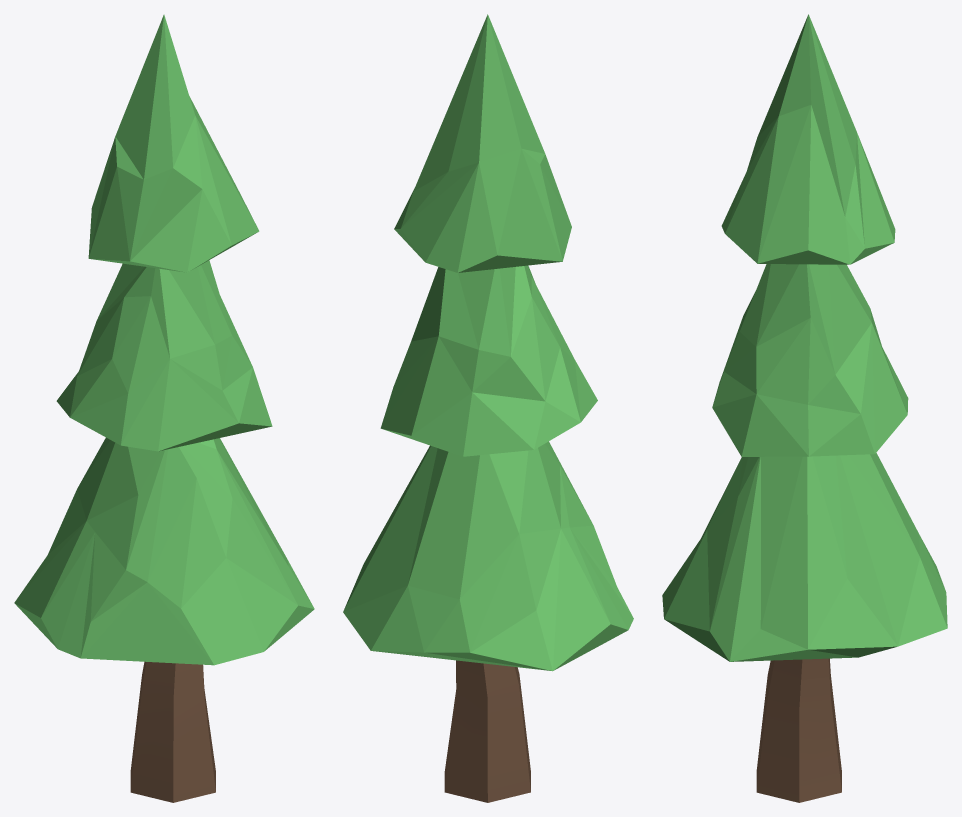
File: Arbre_Grand_2.fbx
The picture shows the model from 3 angles, left to right: view 1: azimuth 30°, elevation 25°; view 2: azimuth 150°, elevation 25°; view 3: azimuth 270°, elevation 25°; orthographic projection.
Parts seen in each view (by area): view 1: pCylinder4, pCylinder3; view 2: pCylinder4, pCylinder3; view 3: pCylinder4, pCylinder3.
Boxes of the visible parts, x1=… form: pCylinder4: x1=14, y1=14, x2=314, y2=665; pCylinder3: x1=130, y1=661, x2=215, y2=802; pCylinder4: x1=343, y1=14, x2=633, y2=671; pCylinder3: x1=444, y1=660, x2=530, y2=802; pCylinder4: x1=662, y1=14, x2=947, y2=661; pCylinder3: x1=756, y1=658, x2=841, y2=802.
Bounding box in the file's own units: 1.85 × 5.48 × 1.85.
